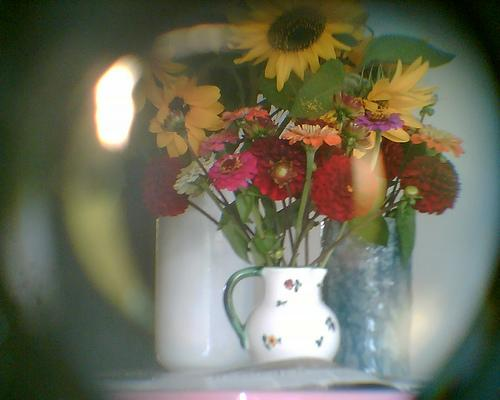sunflower: (232, 1, 370, 81), (361, 52, 433, 140), (143, 75, 223, 154)
